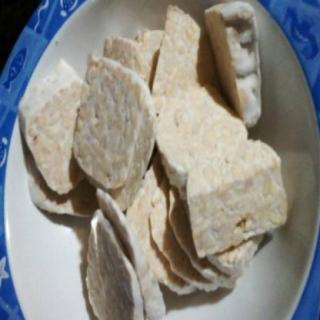Tempe: (185, 139, 291, 259), (72, 57, 159, 191)
